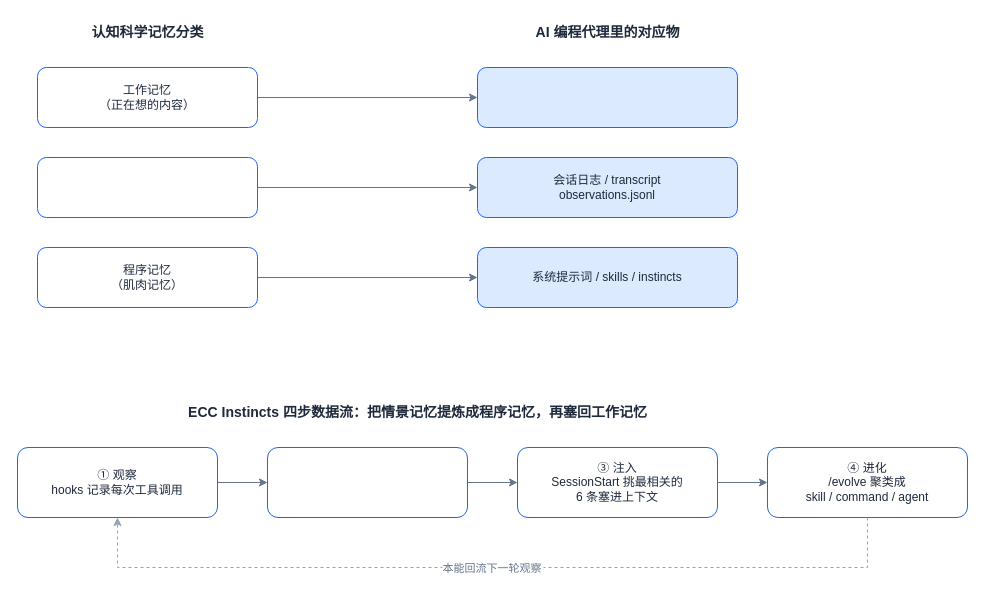
The diagram is 985 pixels wide and 593 high, and some of its shapes have lost their labels. Here are the shapes that lost their labels. From the top down, the centre of each, then its label:
At point 607,97: "上下文窗口 每次推理只看得到这里的 token".
At point 147,187: "情景记忆 （上周发生过什么）".
At point 367,482: "② 本能 观察者代理提炼 instinct 带置信度与证据链".
